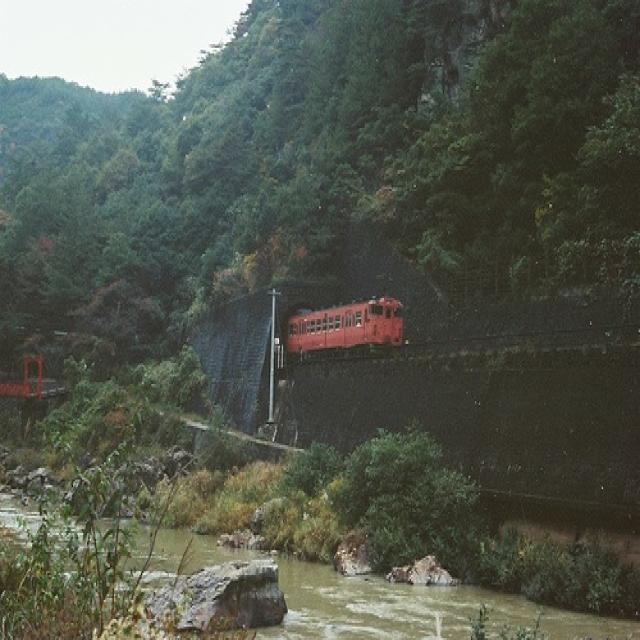train: (284, 294, 403, 361)
